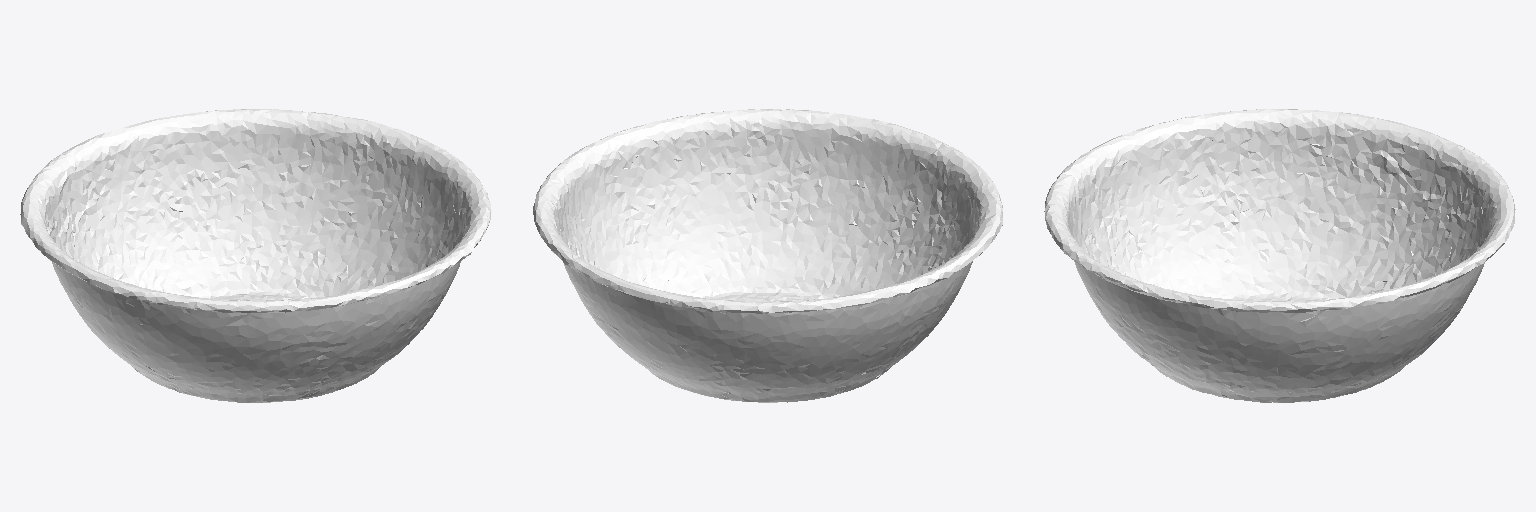
URDF robot description (bowl):
<robot name="bowl">
    <link name="base_link">
        <visual>
            <origin xyz="-0.0 0.0 -0.0" rpy="0.0 0.0 0.0" />
            <geometry>
                <mesh filename="bowl/textured.obj" scale="1 1 1" />
            </geometry>
            <material name="texture">
                <color rgba="1.0 1.0 1.0 1.0" />
            </material>
        </visual>
        <collision>
            <origin xyz="-0.0 0.0 -0.0" rpy="0.0 0.0 0.0" />
            <geometry>
                <mesh filename="bowl/textured_coacd_0.stl" scale="1 1 1" />
            </geometry>
        </collision>
        <collision>
            <origin xyz="-0.0 0.0 -0.0" rpy="0.0 0.0 0.0" />
            <geometry>
                <mesh filename="bowl/textured_coacd_1.stl" scale="1 1 1" />
            </geometry>
        </collision>
        <collision>
            <origin xyz="-0.0 0.0 -0.0" rpy="0.0 0.0 0.0" />
            <geometry>
                <mesh filename="bowl/textured_coacd_2.stl" scale="1 1 1" />
            </geometry>
        </collision>
        <collision>
            <origin xyz="-0.0 0.0 -0.0" rpy="0.0 0.0 0.0" />
            <geometry>
                <mesh filename="bowl/textured_coacd_3.stl" scale="1 1 1" />
            </geometry>
        </collision>
        <collision>
            <origin xyz="-0.0 0.0 -0.0" rpy="0.0 0.0 0.0" />
            <geometry>
                <mesh filename="bowl/textured_coacd_4.stl" scale="1 1 1" />
            </geometry>
        </collision>
        <inertial>
            <mass value="0.147" />
            <inertia ixx="1e-3" ixy="0.0" ixz="0.0" iyy="1e-3" iyz="0.0" izz="1e-3" />
        </inertial>
    </link>
</robot>

--- Render facts (derived) ---
3 views of the same robot in one strip: view 1: azimuth 30°, elevation 25°; view 2: azimuth 150°, elevation 25°; view 3: azimuth 270°, elevation 25° (orthographic).
Robot: bowl — 1 links, 0 joints (none); root link base_link; default pose: all joints at 0.
Links seen in each view (by area): view 1: base_link; view 2: base_link; view 3: base_link.
Link boxes in pixels (left/top/right/bottom): base_link: left=20, top=109, right=491, bottom=402; base_link: left=533, top=109, right=1002, bottom=402; base_link: left=1044, top=109, right=1515, bottom=402.
Size in the robot's own frame: 0.1604 by 0.161 by 0.0547 metres.
Meshes: 1 distinct files referenced, 1 mesh visuals loaded (1 OBJ).